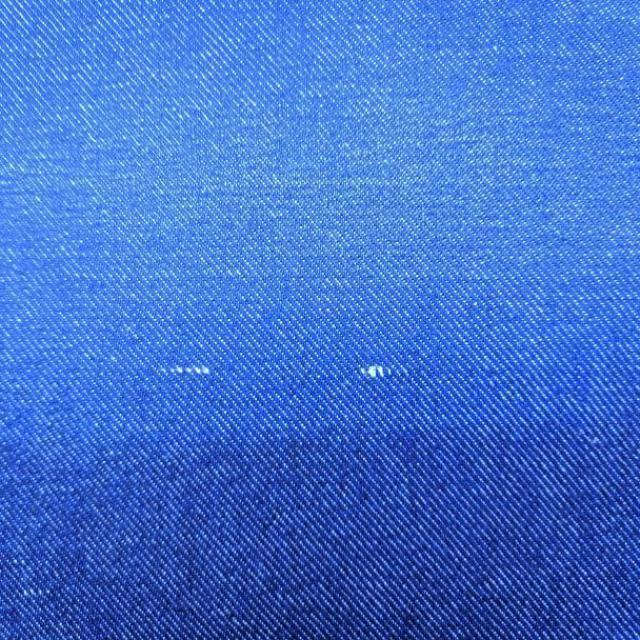Knot: (360, 364, 407, 380), (163, 365, 211, 376)
